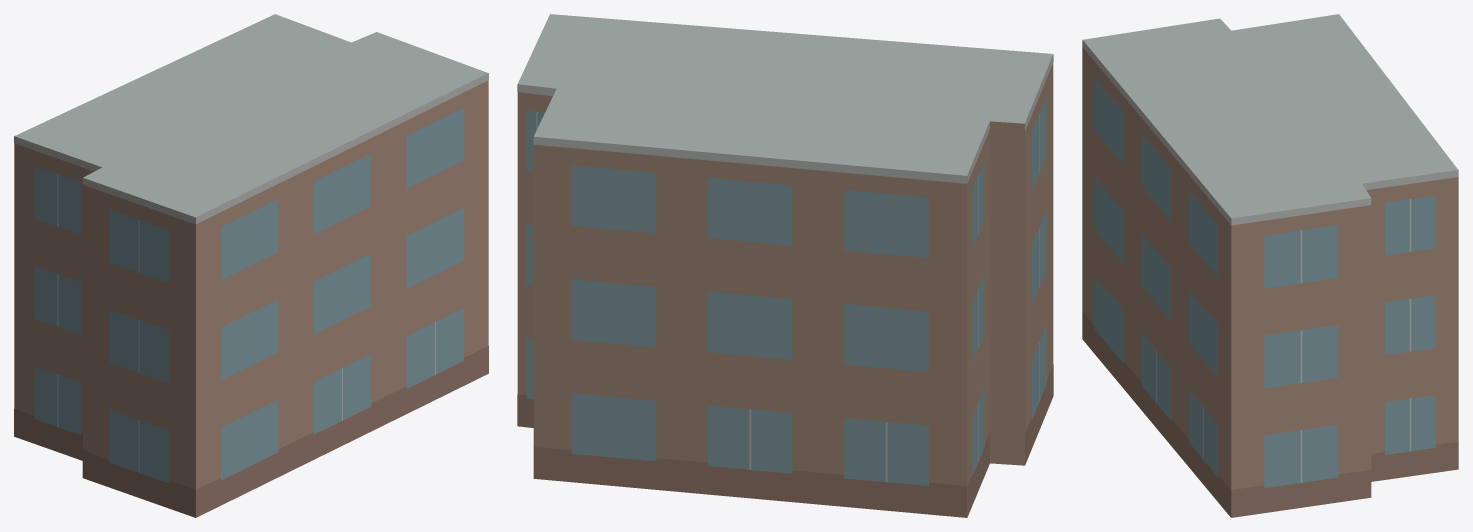
File: survey-upis-32903368.glb
3 renders of one model, left to right at view 1: azimuth 30°, elevation 25°; view 2: azimuth 150°, elevation 25°; view 3: azimuth 270°, elevation 25°, orthographic. The views are drawn at different scales.
Parts seen in each view (by area): view 1: survey-upis-32903368.tmp; view 2: survey-upis-32903368.tmp; view 3: survey-upis-32903368.tmp.
Part boxes in pixels (x1=…): survey-upis-32903368.tmp: x1=14, y1=14, x2=488, y2=517; survey-upis-32903368.tmp: x1=517, y1=14, x2=1053, y2=517; survey-upis-32903368.tmp: x1=1082, y1=14, x2=1458, y2=517.
Bounding box in the file's own units: 15.39 × 10.5 × 11.96.
